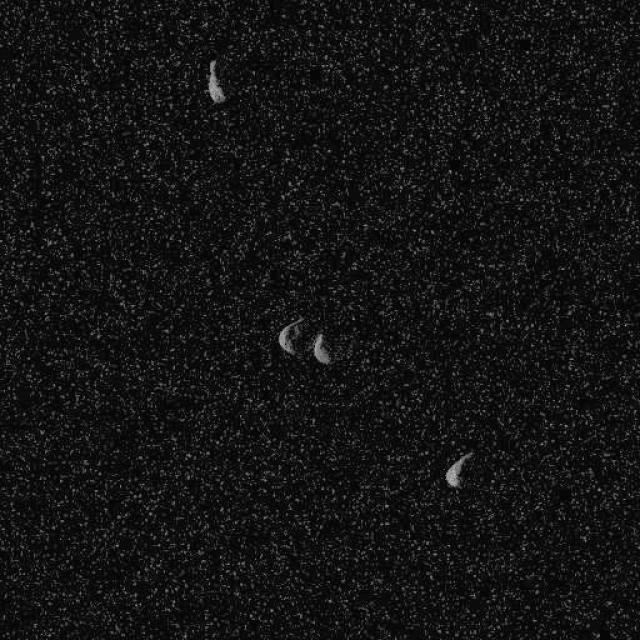D2: (276, 315, 332, 365), (444, 450, 474, 489), (205, 58, 226, 104)
